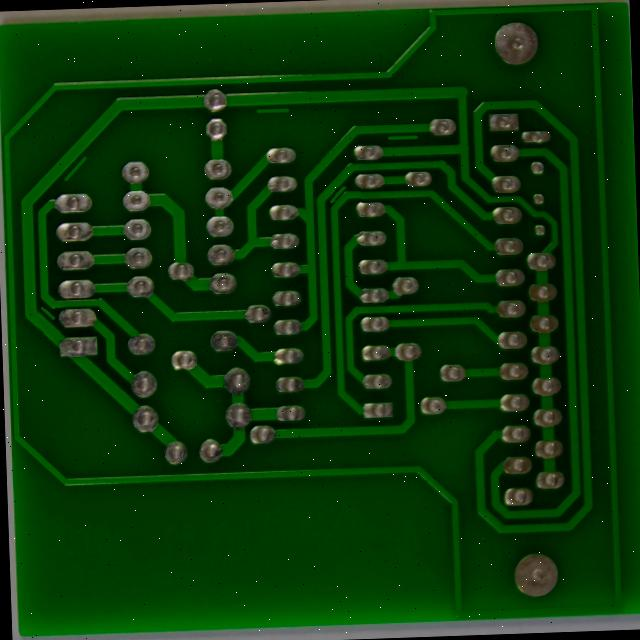spurious_copper: (61, 150, 95, 194), (259, 101, 303, 125), (333, 185, 361, 213), (395, 131, 437, 149), (35, 308, 63, 334)
